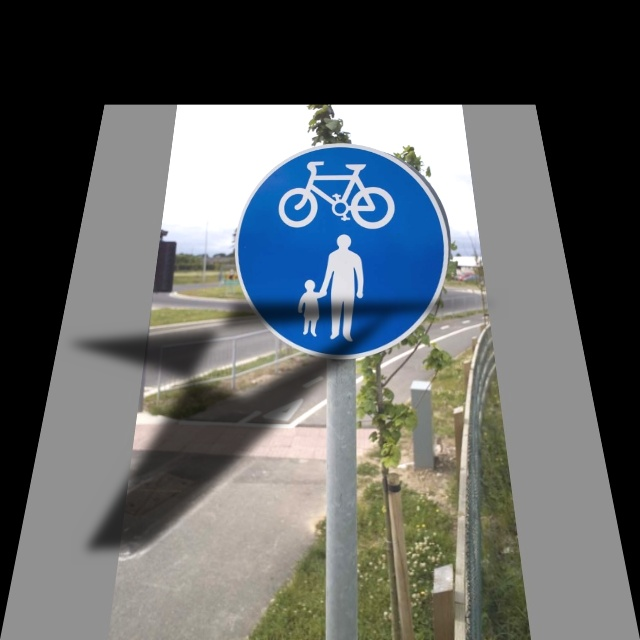Compulsory_Cycle_Track: (234, 142, 462, 347)
